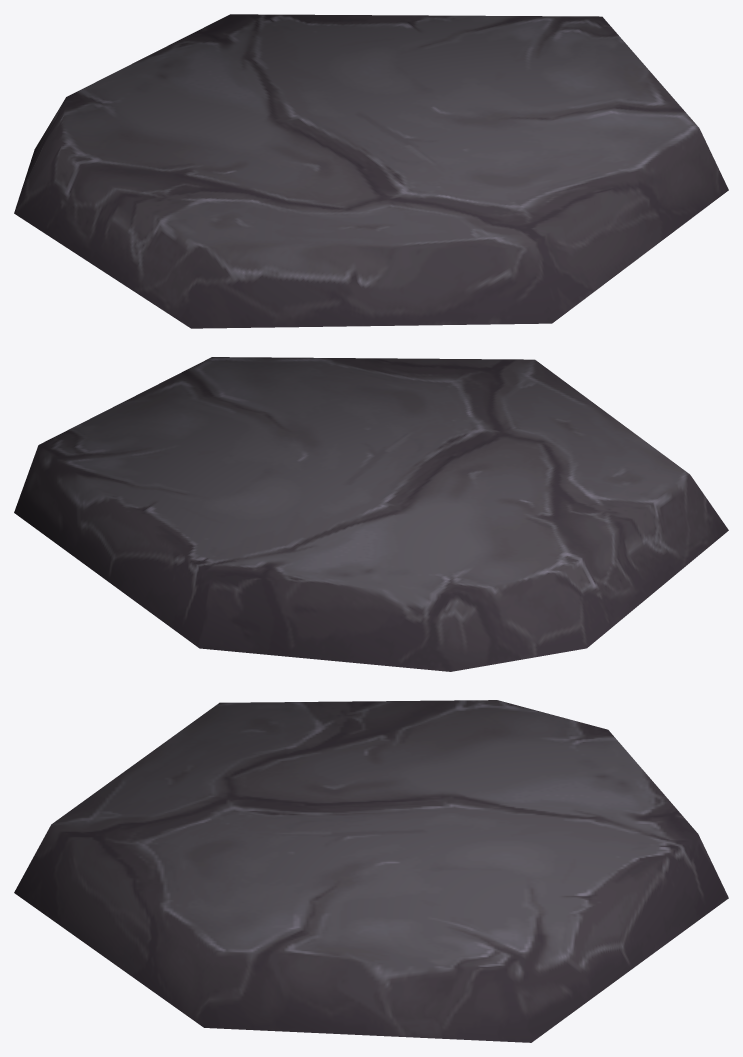
The model's file is yw_shanlin_stones_021.FBX.
3 views of the same model, one above another, from view 1: azimuth 30°, elevation 25°; view 2: azimuth 150°, elevation 25°; view 3: azimuth 270°, elevation 25° (orthographic). The views are drawn at different scales.
Parts seen in each view (by area): view 1: yw_shanlin_stones_021; view 2: yw_shanlin_stones_021; view 3: yw_shanlin_stones_021.
Part boxes in pixels (x1,y1,x2,y2): yw_shanlin_stones_021: (14, 14, 728, 328); yw_shanlin_stones_021: (14, 357, 728, 671); yw_shanlin_stones_021: (14, 700, 728, 1042).
Size of the model in its own units: 156 by 15.84 by 159.
